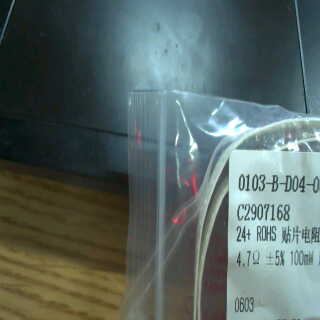4.7R: (235, 246, 262, 274)
